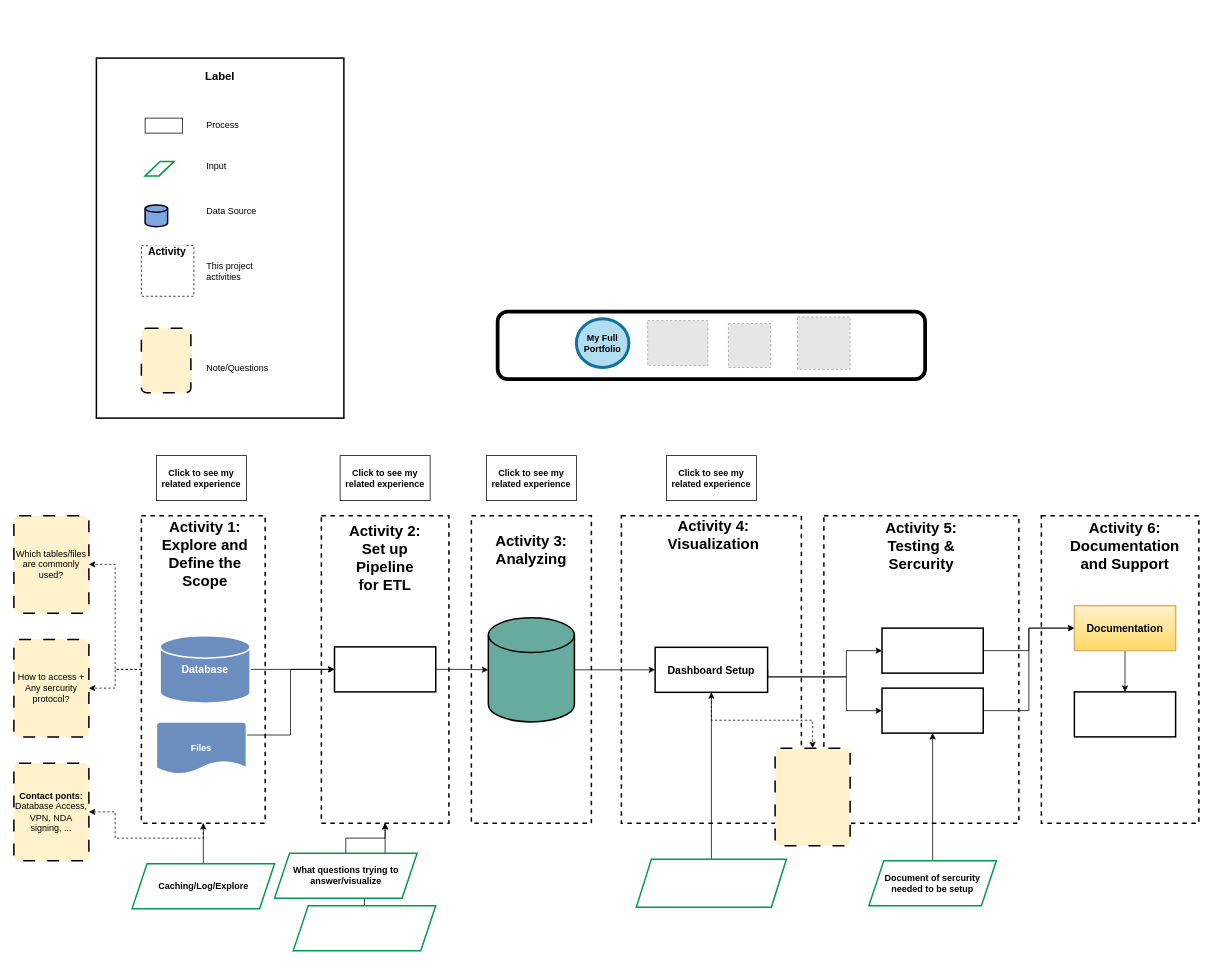
The diagram is 1212 pixels wide and 970 high, and some of its shapes have lost their labels. Grey dashed boxes stand in for pictures. Each missing label, with the centre of its shape:
"Color scheme, style, slicers, features visulaization needed" goes at [711,883].
"Do you have any examples visualization we can refer to?" goes at [812,796].
"ETL" goes at [384,669].
"On-demand support" goes at [1124,714].
"Processed Data Model" goes at [531,669].
"Schedule" goes at [364,927].
"Sercurity" goes at [932,710].
"Testing" goes at [932,650].
